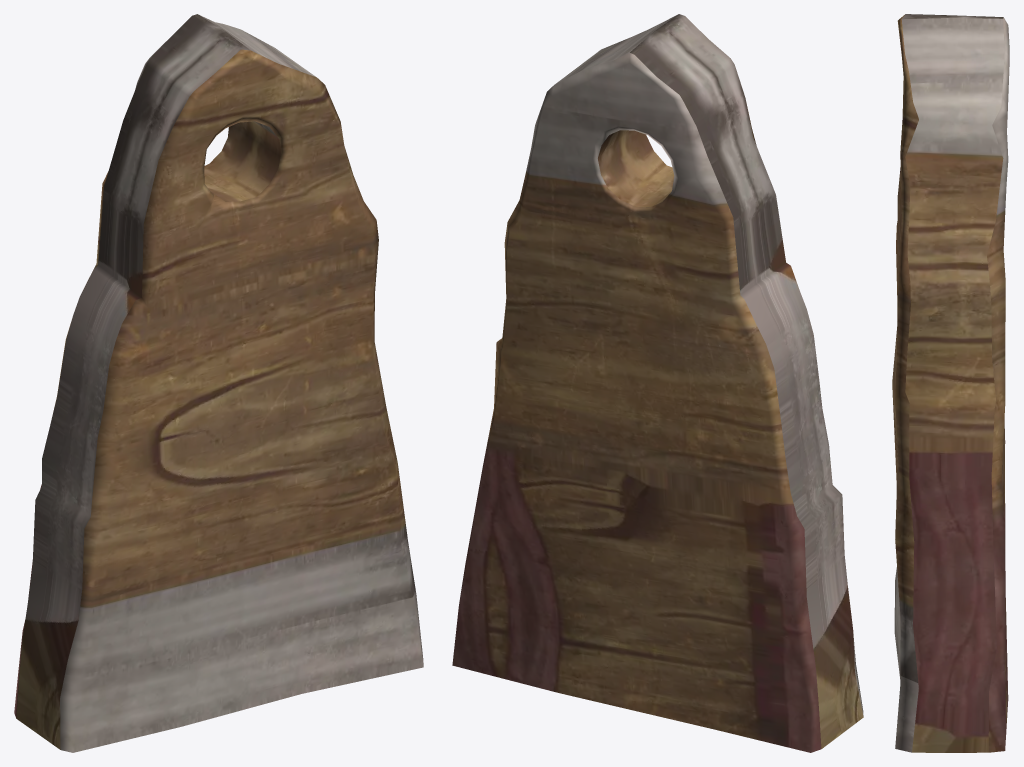
3 views of the same model, side by side, from view 1: azimuth 30°, elevation 25°; view 2: azimuth 150°, elevation 25°; view 3: azimuth 270°, elevation 25° (orthographic).
Visible parts, largest first — view 1: SM_Longbow_AshWood_2H_01_LOD0; view 2: SM_Longbow_AshWood_2H_01_LOD0; view 3: SM_Longbow_AshWood_2H_01_LOD0.
Part boxes in pixels (x1=…): SM_Longbow_AshWood_2H_01_LOD0: x1=14, y1=14, x2=423, y2=752; SM_Longbow_AshWood_2H_01_LOD0: x1=452, y1=14, x2=863, y2=752; SM_Longbow_AshWood_2H_01_LOD0: x1=892, y1=14, x2=1009, y2=752.
Bounding box in the file's own units: 3.84 × 6.58 × 1.08.
